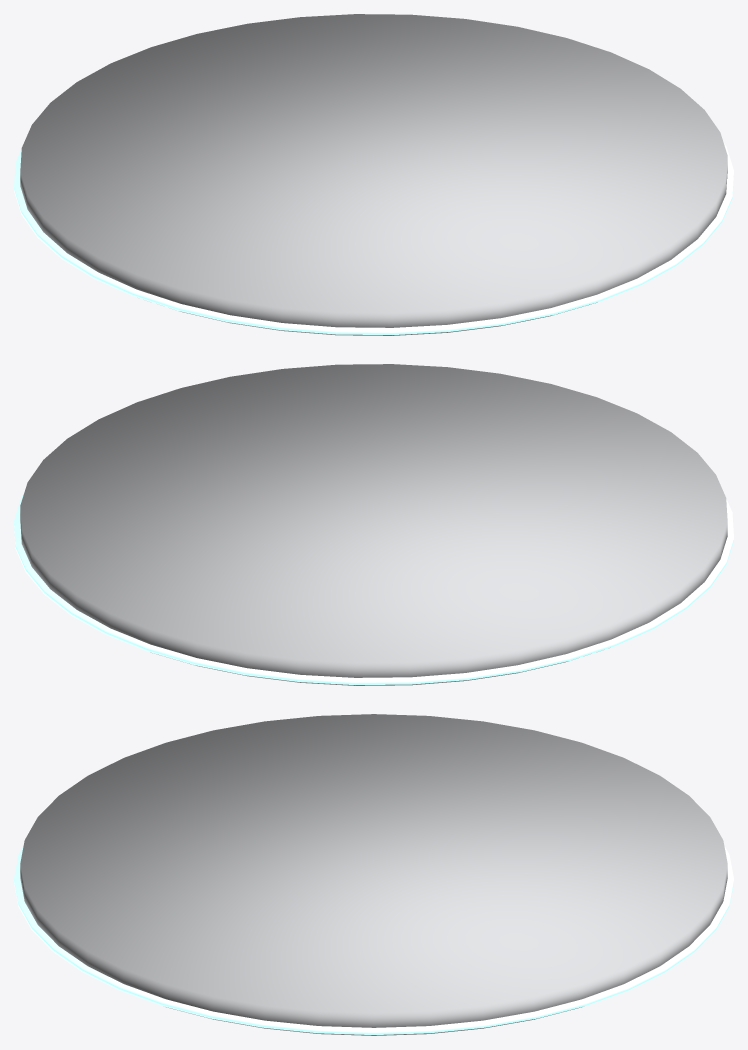
File: turntable.glb
3 renders of one model, top to bottom at view 1: azimuth 30°, elevation 25°; view 2: azimuth 150°, elevation 25°; view 3: azimuth 270°, elevation 25°, orthographic.
Visible parts, largest first — view 1: turntable; view 2: turntable; view 3: turntable.
Boxes of the visible parts, box(x1,y1,x2,y2) form: turntable: box(14, 14, 733, 335); turntable: box(14, 364, 733, 685); turntable: box(14, 714, 733, 1035).
Size of the model in its own units: 5.7 by 0.2 by 5.7.
